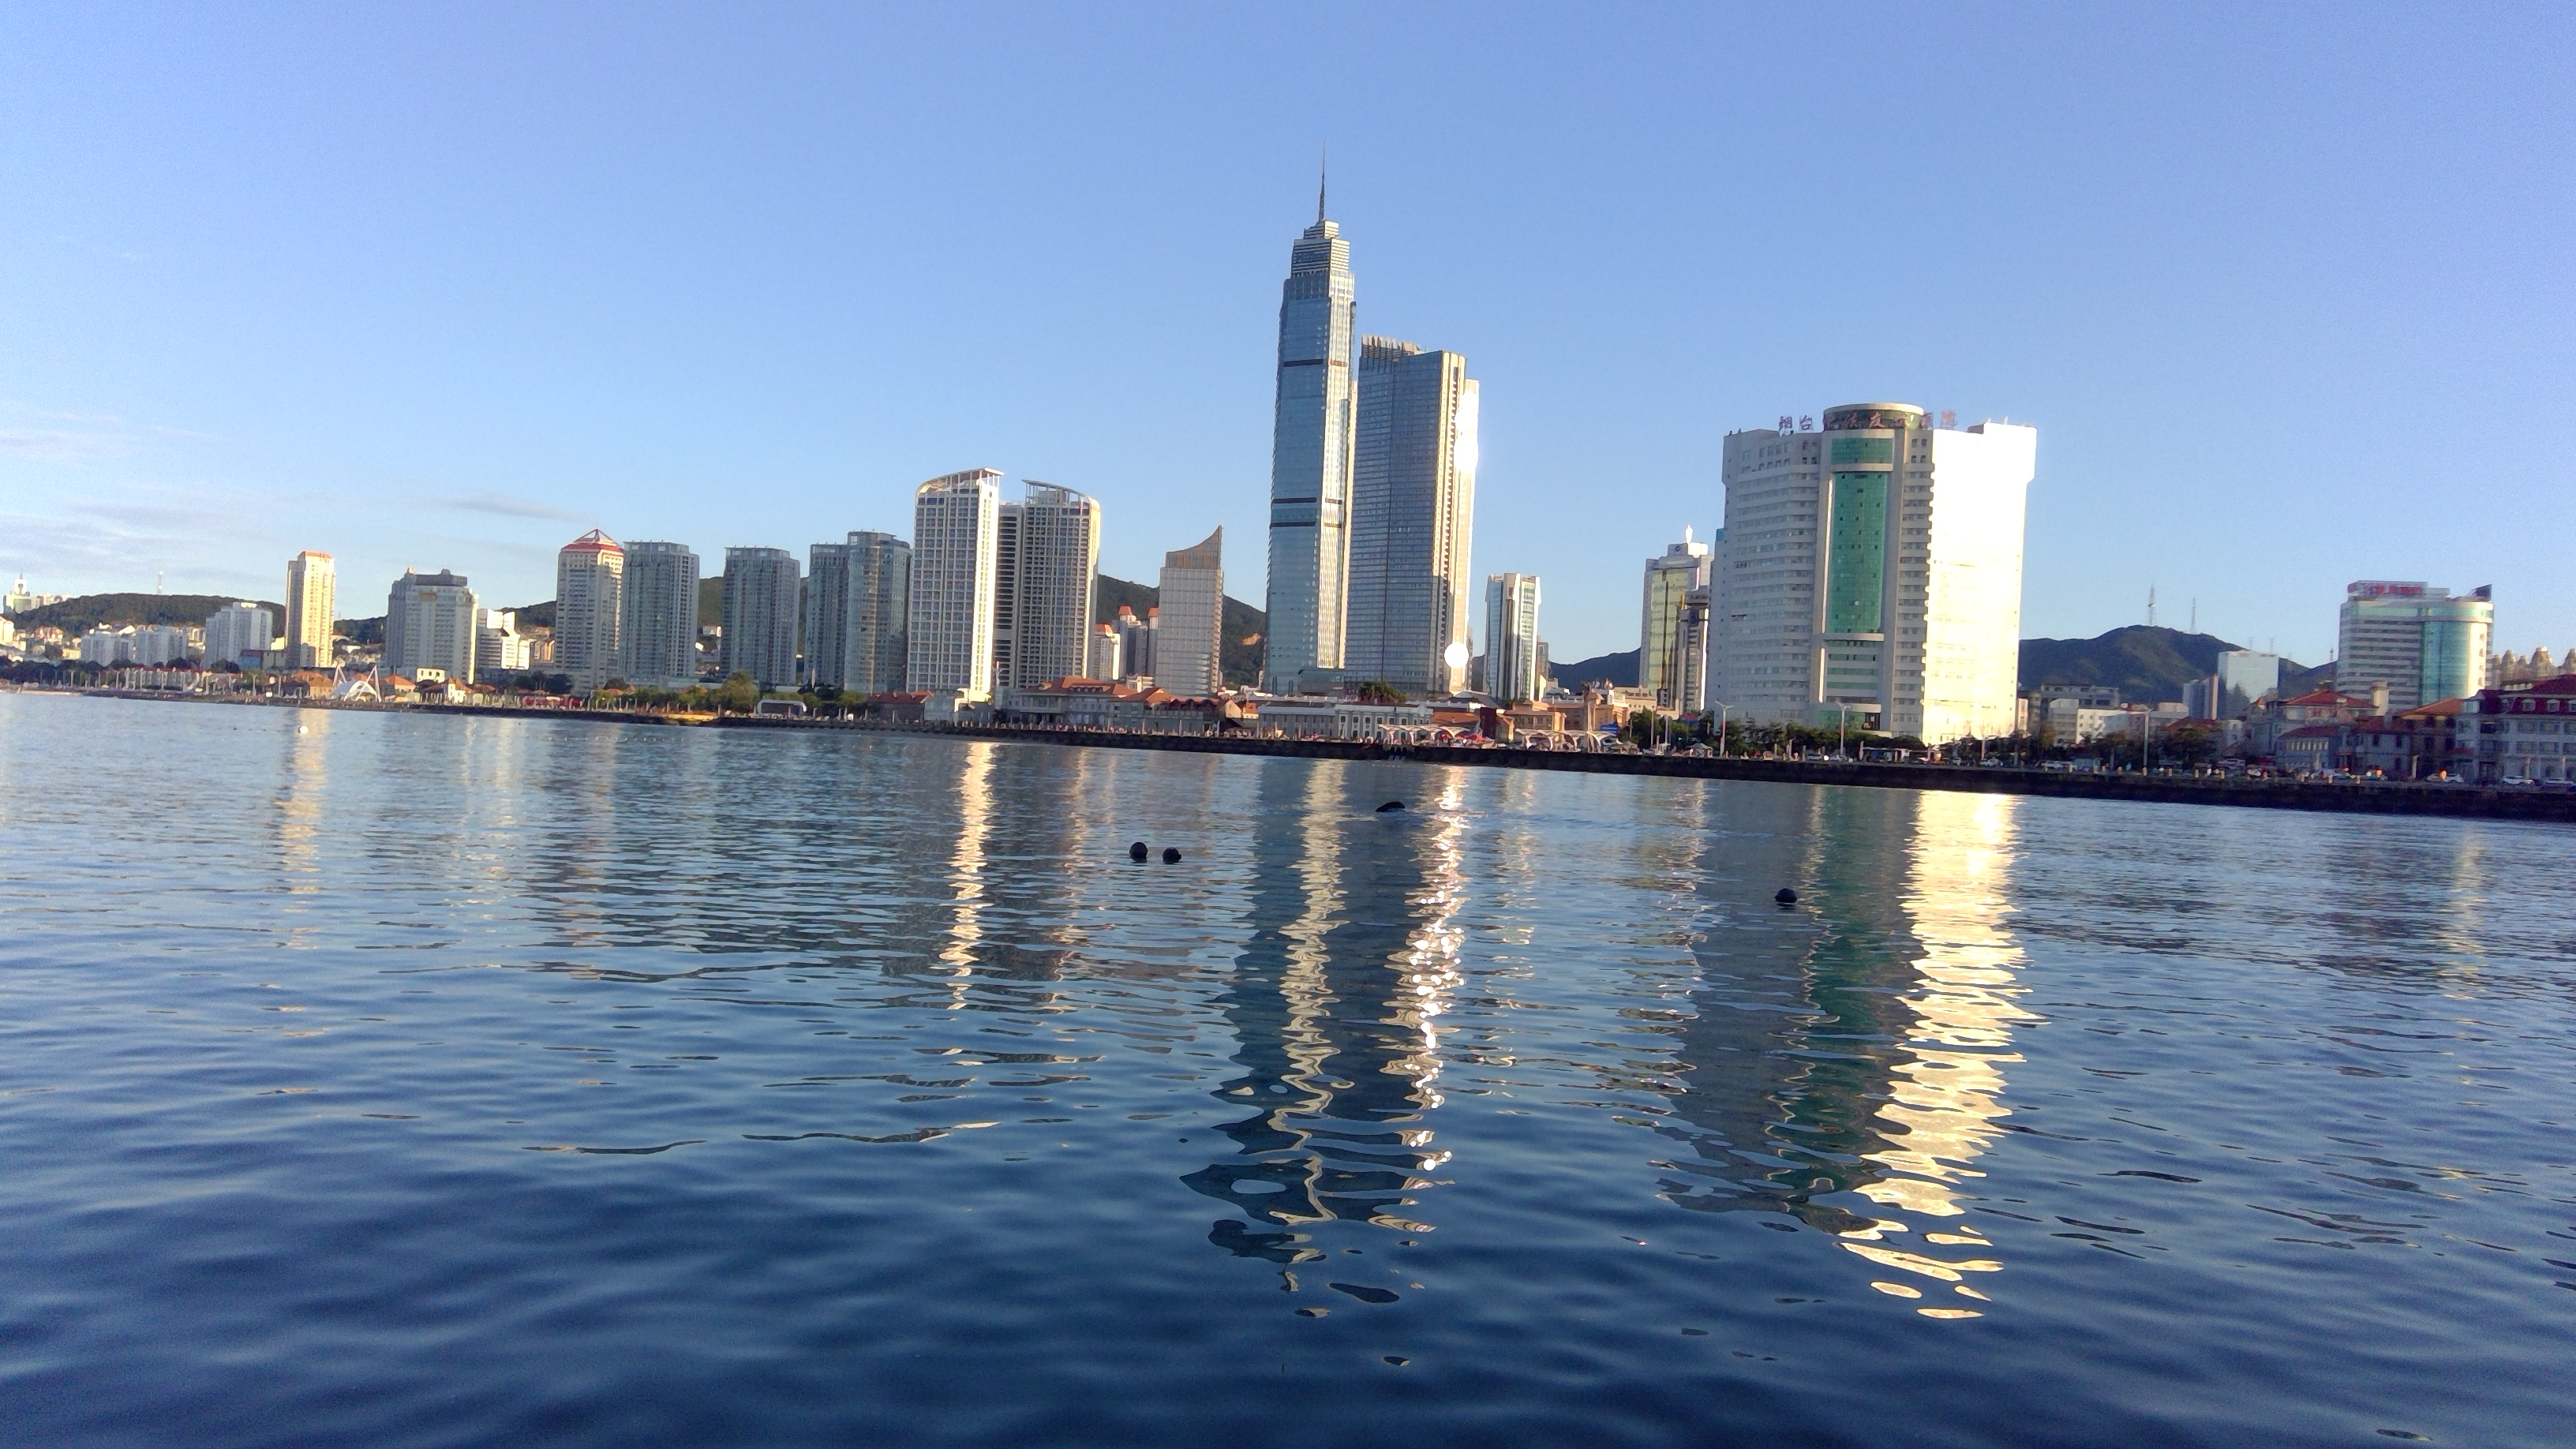ball: (1122, 839, 1148, 883), (1775, 876, 1798, 925), (1157, 853, 1185, 867)
